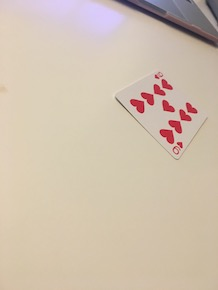NineOfHearts: (112, 65, 211, 162)
